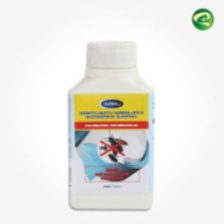insecticide: (64, 33, 160, 214)
